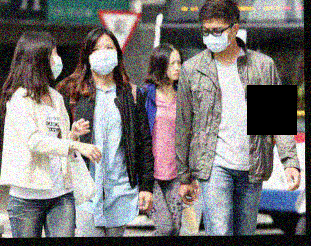with_mask: (87, 41, 119, 74), (201, 21, 234, 52), (48, 45, 64, 79)
without_mask: (166, 55, 184, 80)
